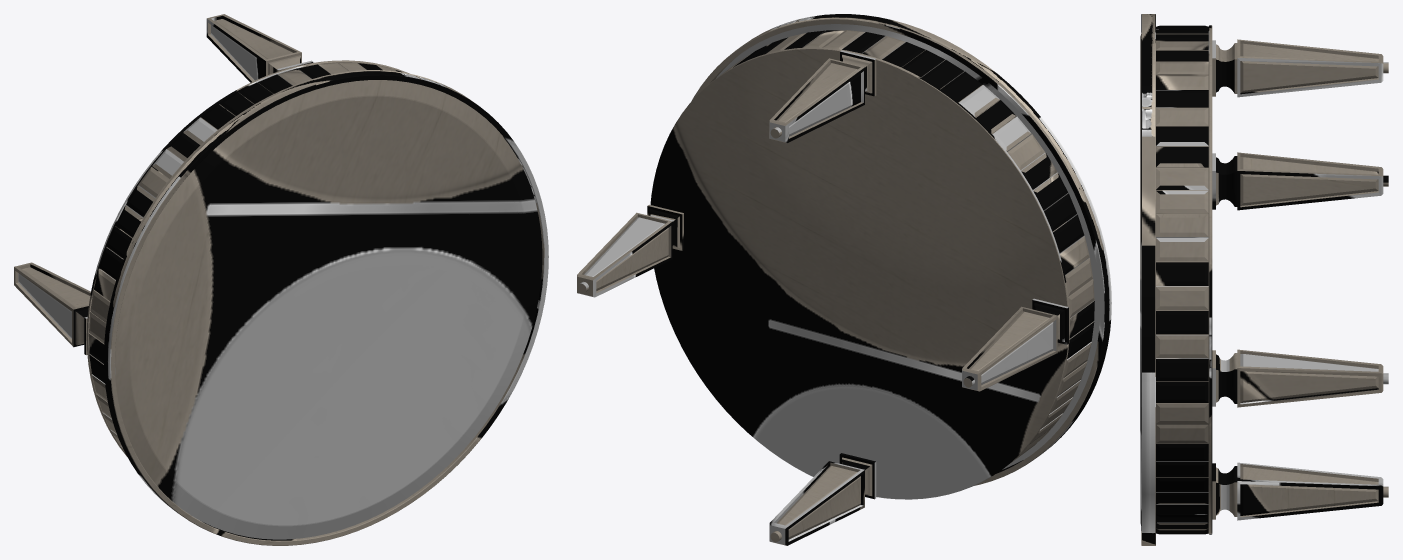
3 renders of one model, left to right at view 1: azimuth 30°, elevation 25°; view 2: azimuth 150°, elevation 25°; view 3: azimuth 270°, elevation 25°, orthographic. The views are drawn at different scales.
Bounding box in the file's own units: 0.6823 × 0.6823 × 0.3189.
